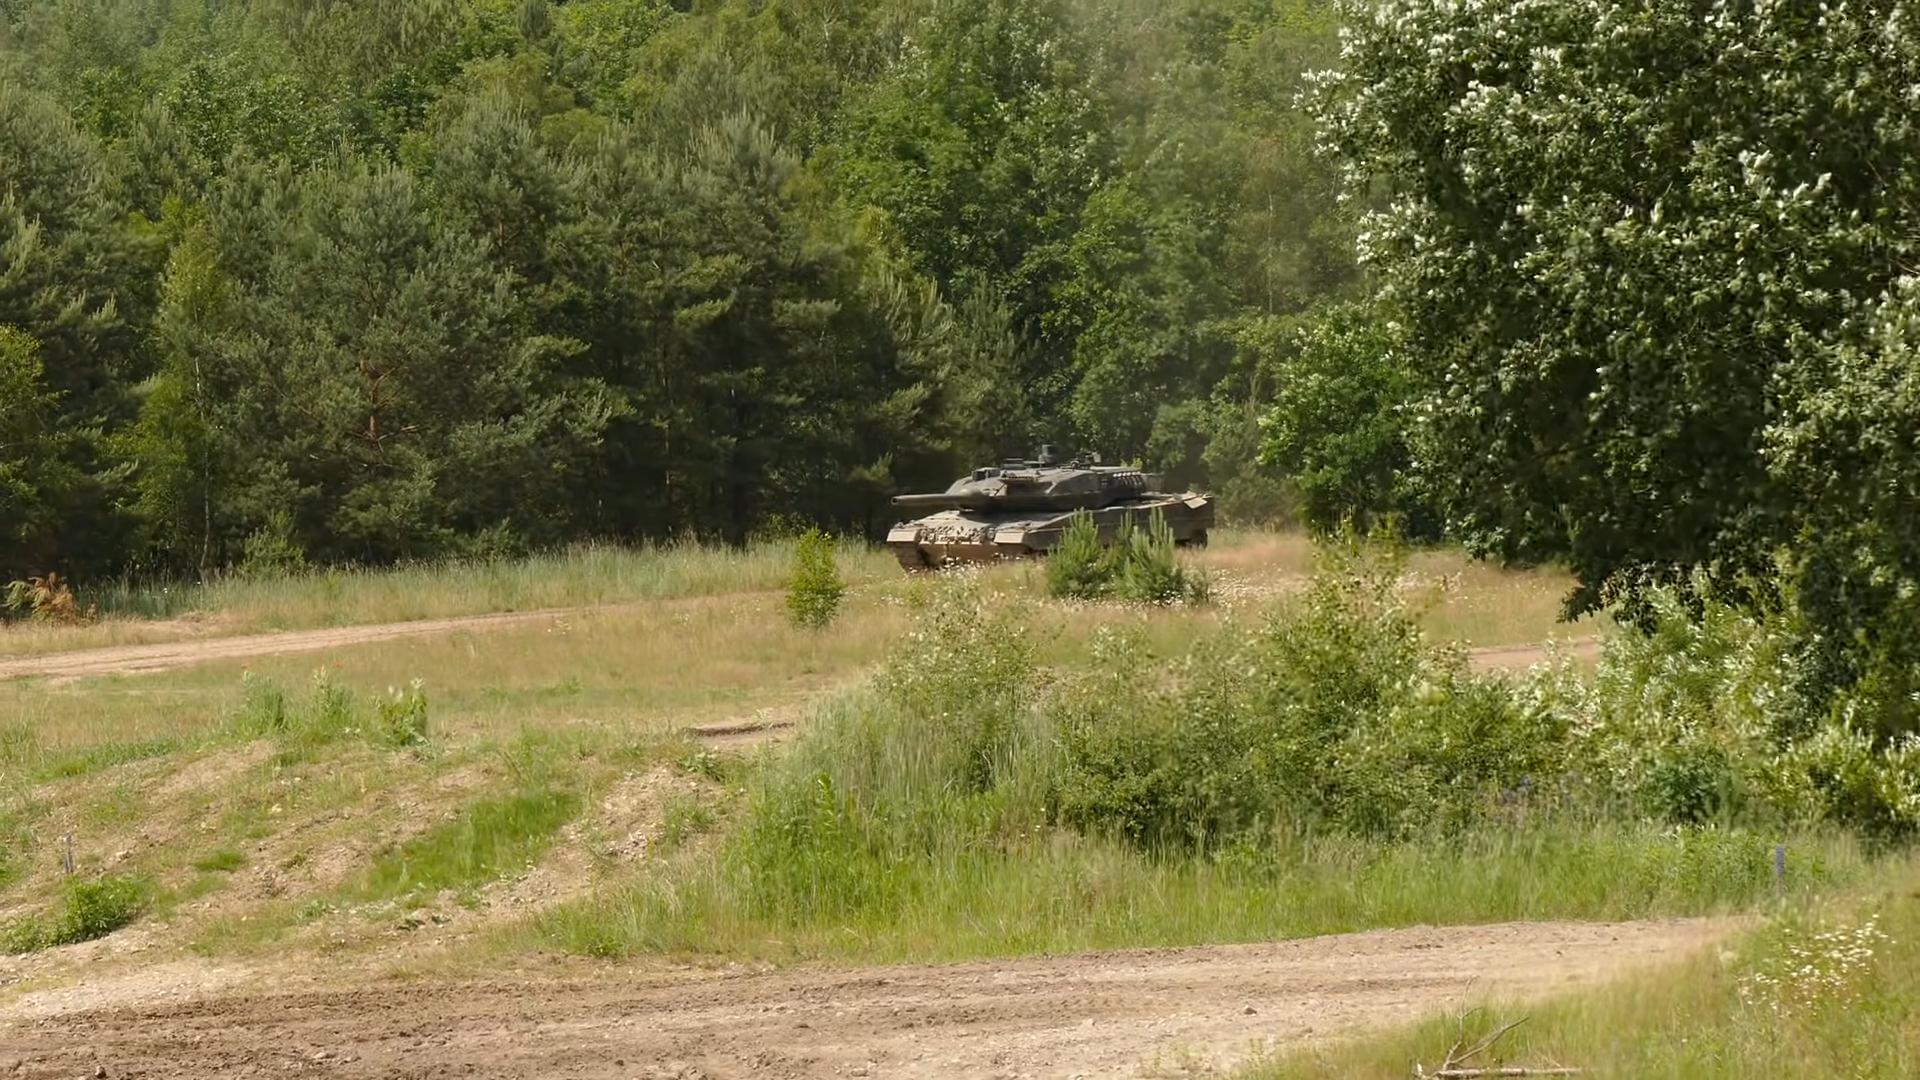tank: (887, 443, 1216, 576)
